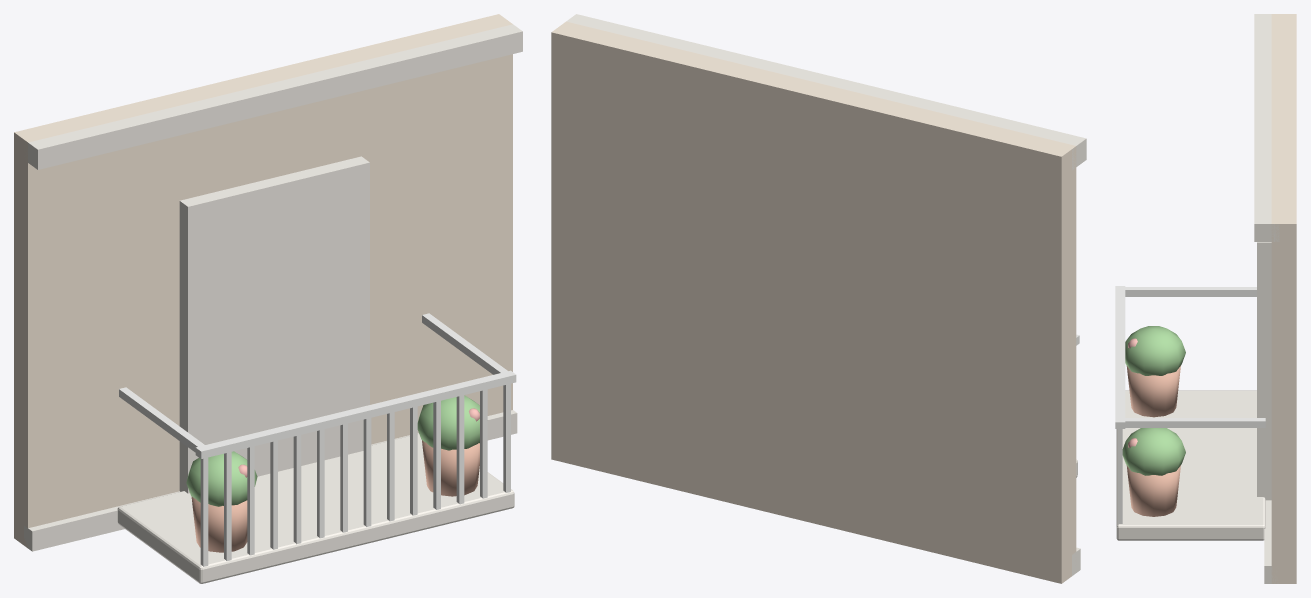
File: fachada_varanda.glb
The picture shows the model from 3 angles, left to right: view 1: azimuth 30°, elevation 25°; view 2: azimuth 150°, elevation 25°; view 3: azimuth 270°, elevation 25°; orthographic projection. The views are drawn at different scales.
Parts seen in each view (by area): view 1: fachada_varanda; view 2: fachada_varanda; view 3: fachada_varanda.
Boxes of the visible parts, x1,y1,x2,y2 form: fachada_varanda: (14, 14, 522, 583); fachada_varanda: (551, 14, 1086, 583); fachada_varanda: (1115, 14, 1296, 583).
Bounding box in the file's own units: 4 × 3.2 × 1.46.
